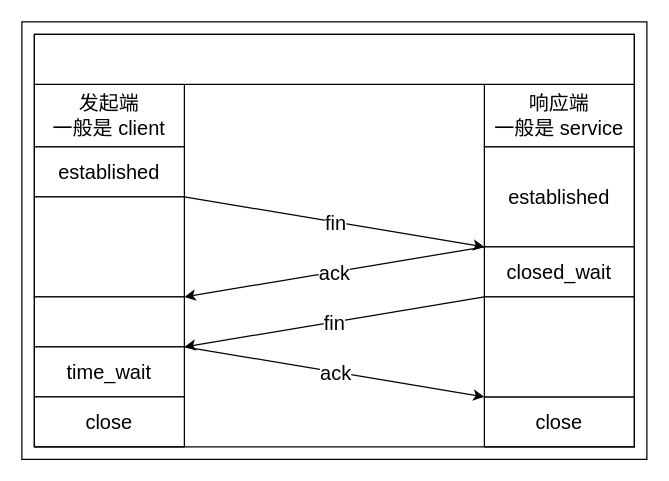
Image size: 669x481. Some labels were removed from this diagram. Here are the shapes that lost their labels. From the top down, the centre of each, then its label:
At (333,58): "四次挥手的流程".
At (108,246): "fin_wait_1".
At (108,321): "fin_wait_2".
At (558,346): "last_ack".
